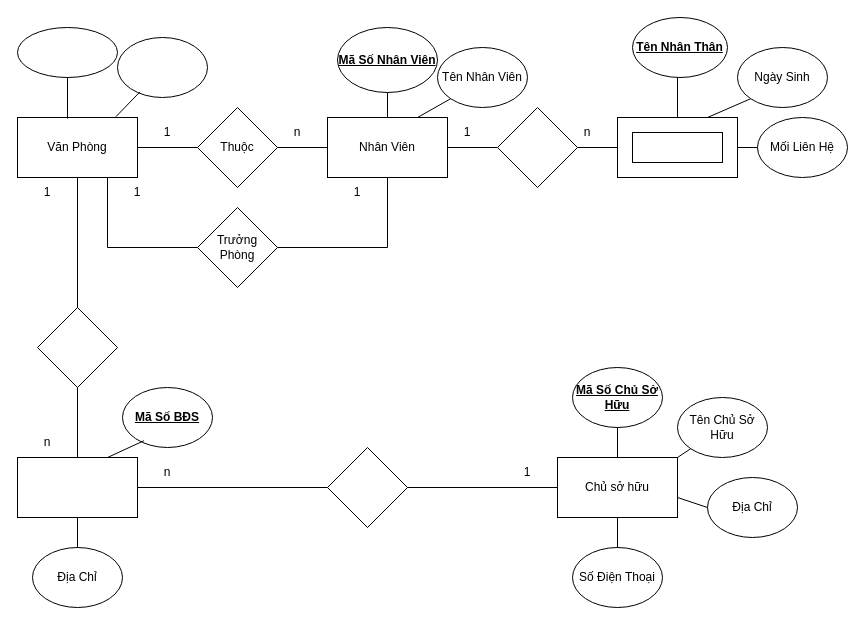
The diagram is 865 pixels wide and 625 high, and some of its shapes have lost their labels. Here are the shapes that lost their labels. From the top down, the centre of each, then its label:
At point (67, 52): "Mã Số Văn Phòng".
At point (162, 67): "Địa điểm".
At point (537, 147): "Có".
At point (677, 147): "Nhân Thân".
At point (77, 347): "Rao Bán".
At point (77, 487): "Sản Phẩm BĐS".
At point (367, 487): "Sở Hữu".
